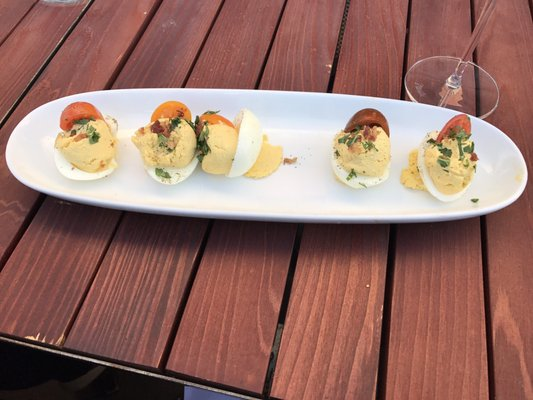curry: (0, 75, 531, 398)
sandwich: (405, 1, 499, 122)
